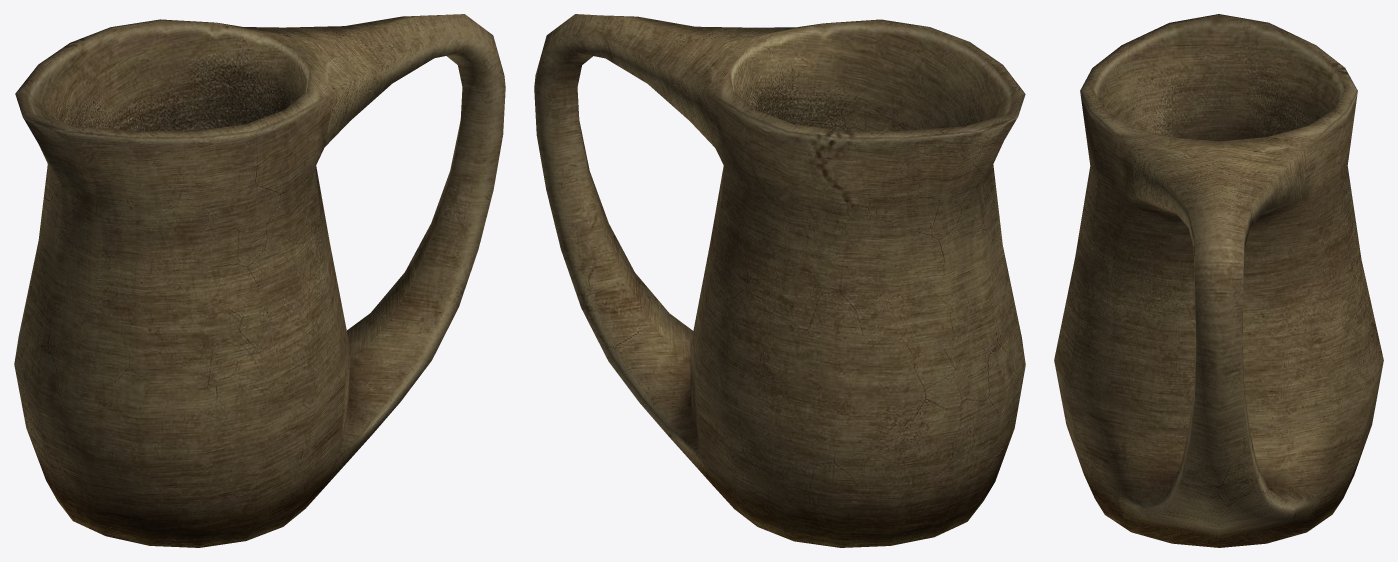
The model's file is jug.glb.
The picture shows the model from 3 angles, left to right: view 1: azimuth 30°, elevation 25°; view 2: azimuth 150°, elevation 25°; view 3: azimuth 270°, elevation 25°; orthographic projection. The views are drawn at different scales.
Parts seen in each view (by area): view 1: trn_Jug; view 2: trn_Jug; view 3: trn_Jug.
Part boxes in pixels (x1,y1,x2,y2): trn_Jug: [14, 14, 505, 547]; trn_Jug: [534, 14, 1025, 547]; trn_Jug: [1054, 14, 1383, 547].
Size of the model in its own units: 0.4705 by 0.3959 by 0.2866.
1 material, 1 textured.
